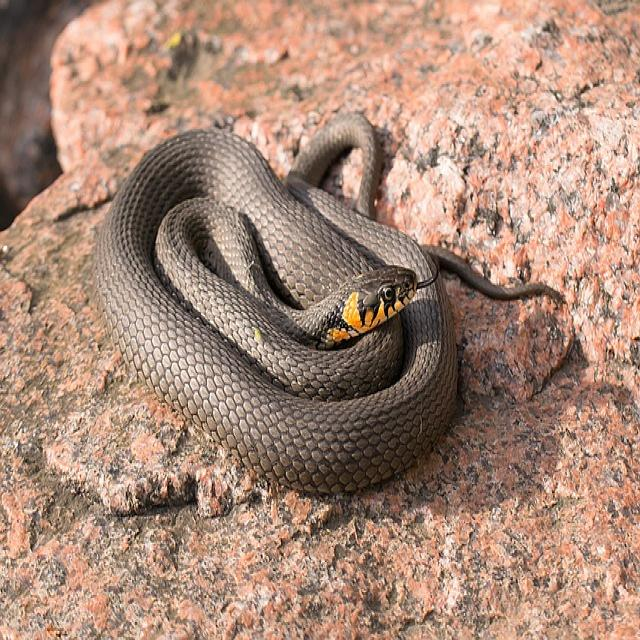Carnivorous: (93, 112, 552, 498)
